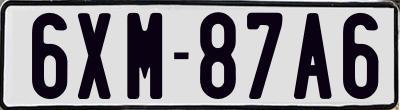6: (30, 13, 68, 105), (340, 10, 376, 98)
7: (246, 11, 284, 101)
8: (198, 11, 235, 102)
A: (292, 13, 332, 101)
M: (124, 13, 160, 105)
X: (76, 12, 110, 99)
